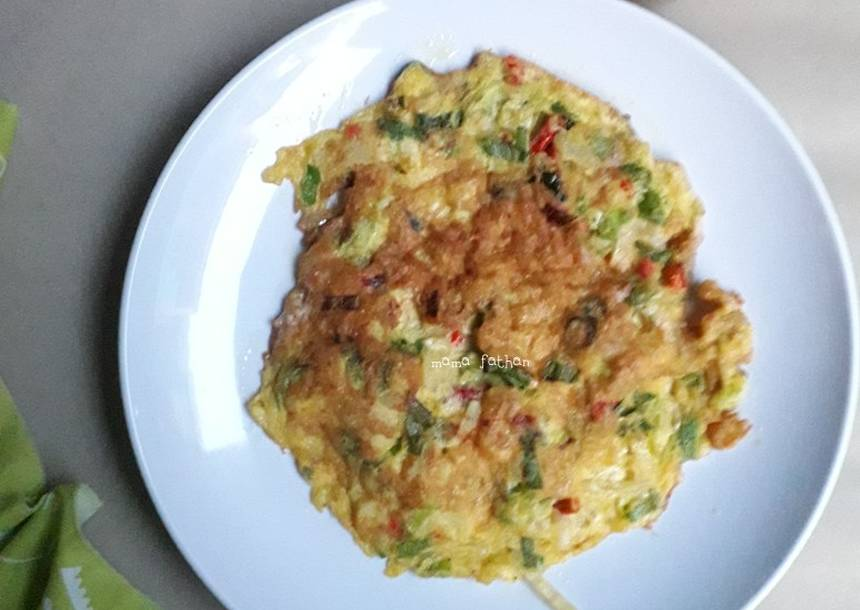Telur: (243, 95, 734, 572)
